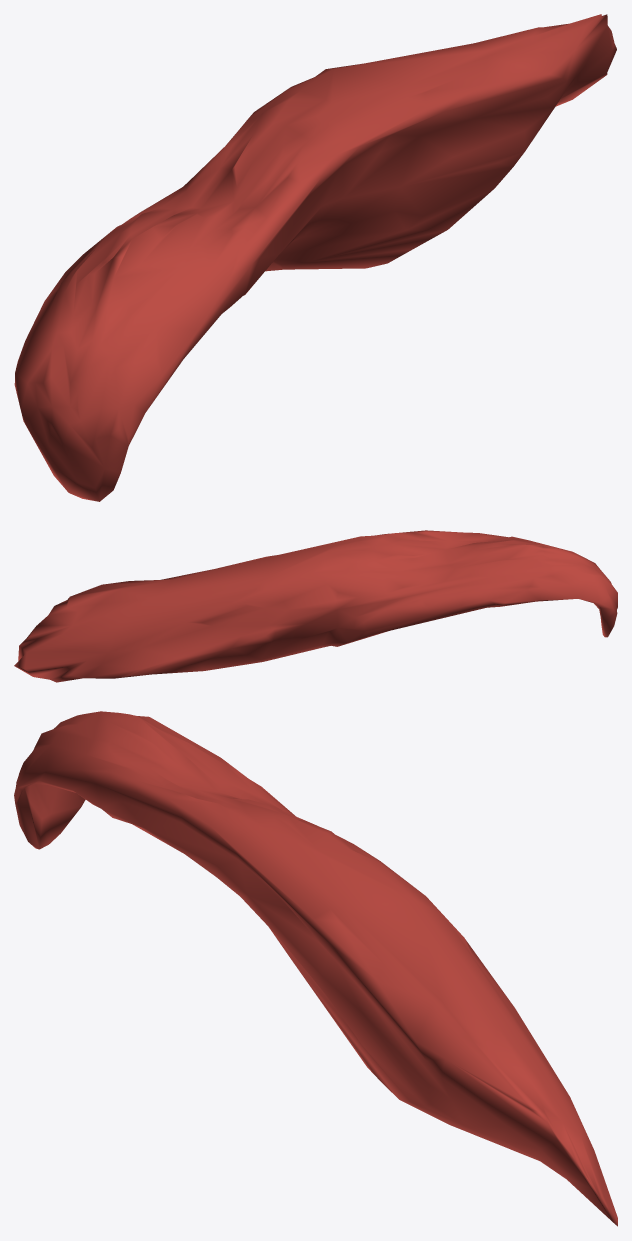
The model's file is musculos-supraspinatus-muscle-r.glb.
The picture shows the model from 3 angles, top to bottom: view 1: azimuth 30°, elevation 25°; view 2: azimuth 150°, elevation 25°; view 3: azimuth 270°, elevation 25°; orthographic projection. The views are drawn at different scales.
Parts seen in each view (by area): view 1: Supraspinatus muscle.r; view 2: Supraspinatus muscle.r; view 3: Supraspinatus muscle.r.
Part boxes in pixels (x1,y1,x2,y2): Supraspinatus muscle.r: (14, 14, 616, 501); Supraspinatus muscle.r: (14, 530, 617, 682); Supraspinatus muscle.r: (14, 711, 617, 1226).
Size of the model in its own units: 0.1251 by 0.0328 by 0.0846.
